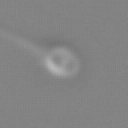normal: (1, 11, 48, 55)
